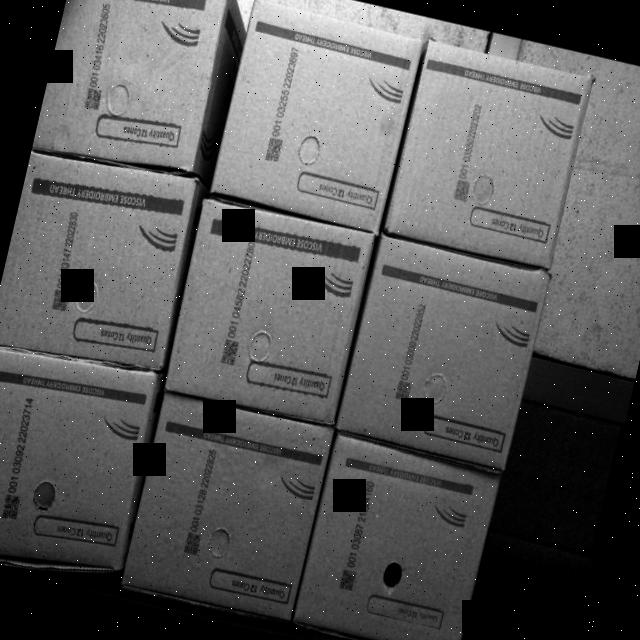box: (120, 390, 338, 632), (158, 198, 374, 430), (207, 0, 425, 228), (0, 138, 204, 380), (336, 234, 550, 463), (386, 35, 594, 267), (290, 437, 499, 640), (0, 336, 160, 587), (33, 0, 241, 179)
